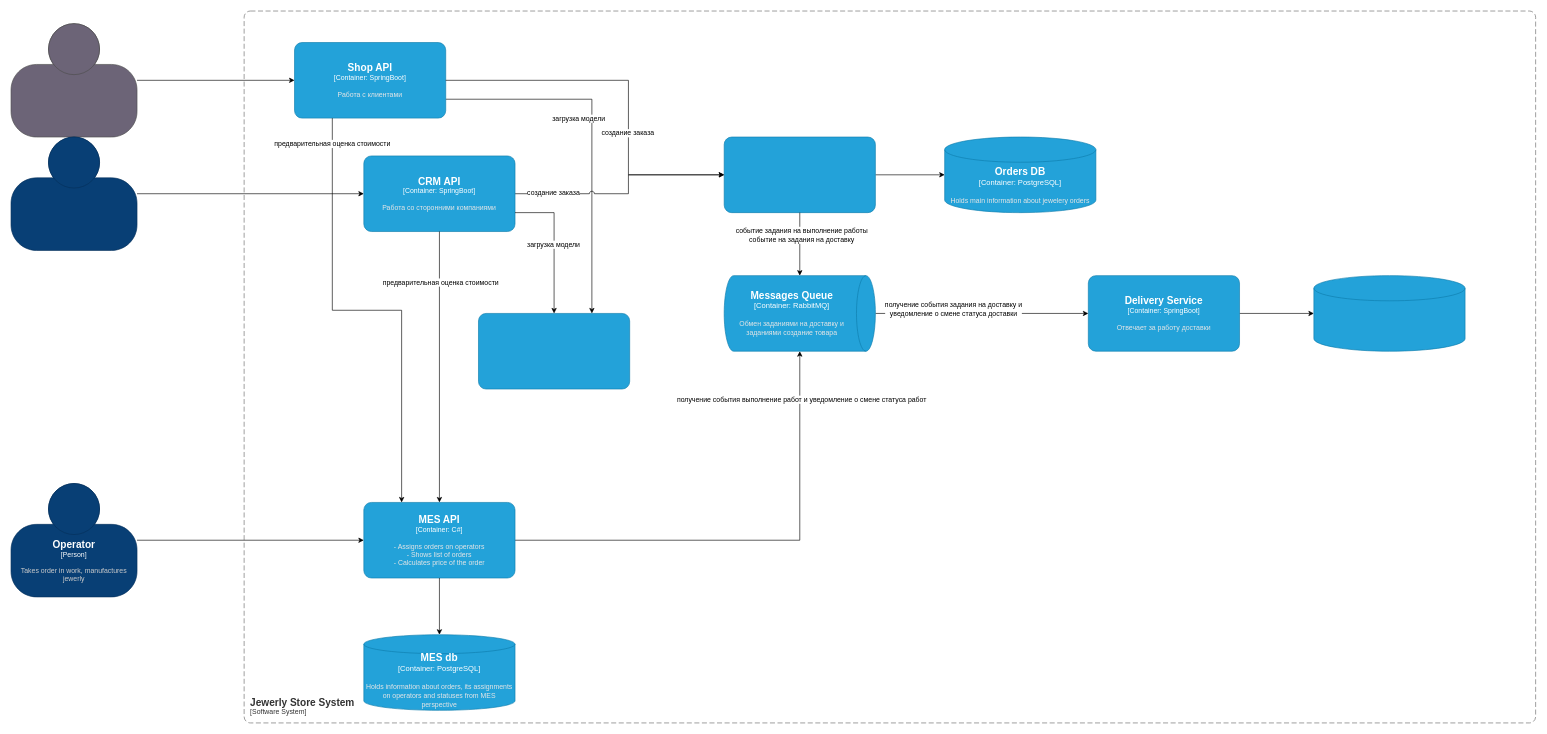
Image size: 1547x734. Some labels were removed from this diagram. Here are the shapes that lost their labels. From the top down, the centre of each, then its label:
At (x=73, y=80): "Customer [Person] Description of external person.".
At (x=73, y=193): "Seller [Person] Operates with order, confirms manufacturing for the user".
At (x=799, y=174): "Orders Service [Container: SpringBoot] Управляет пайплайном заказа".
At (x=1389, y=313): "Delivery DB [Container: PostgreSQL] Holds main information about jewelery orders".
At (x=554, y=351): "3d files storage [Container: S3-based storage] Хранилище 3д моделей".
